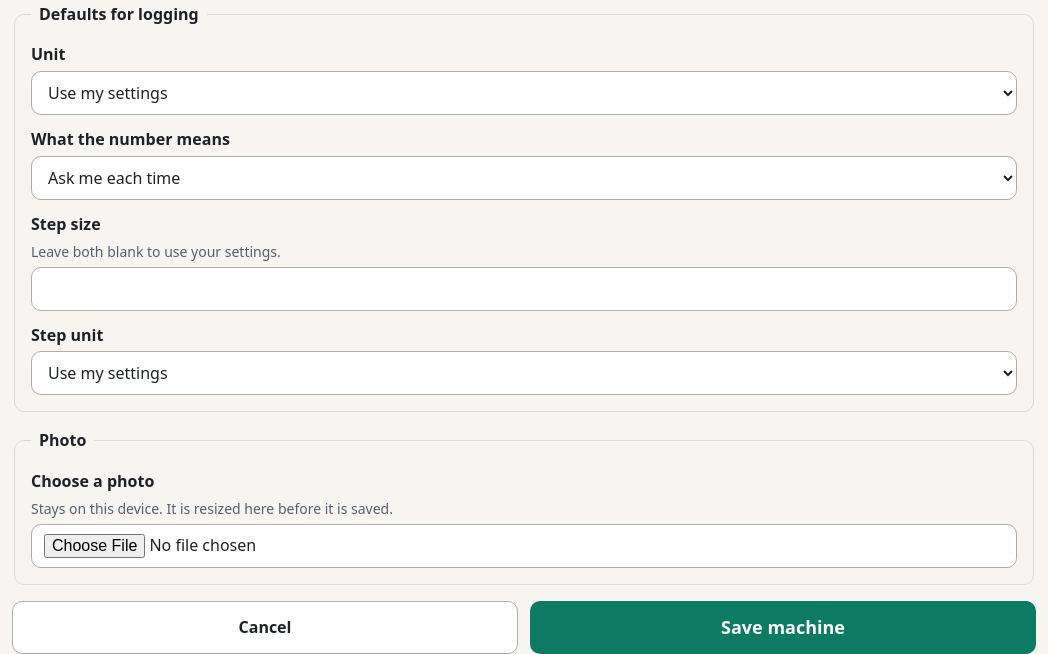
Test: adding a machine › refuses a nameless machine and writes nothing
The width and height of the screenshot is (1048, 654).
(page scrolled)
Click the button "Save machine".
click(783, 628)  # box x1=530 y1=601 x2=1036 y2=653
(page scrolled)
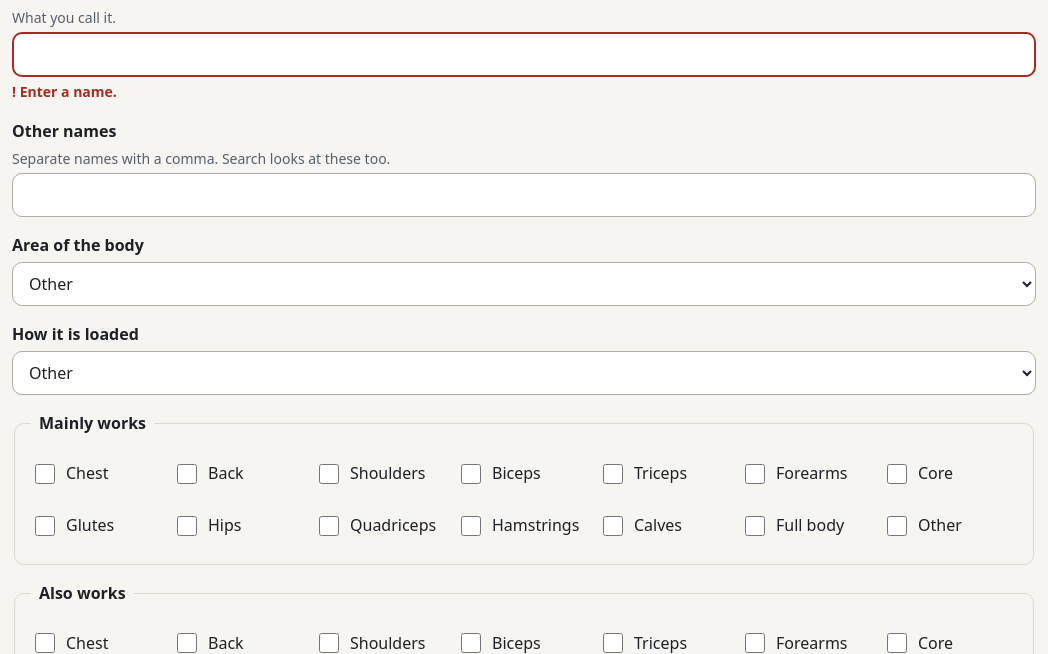
Expected: the text "Enter a name." is shown, x1=20 y1=82 x2=117 y2=101
